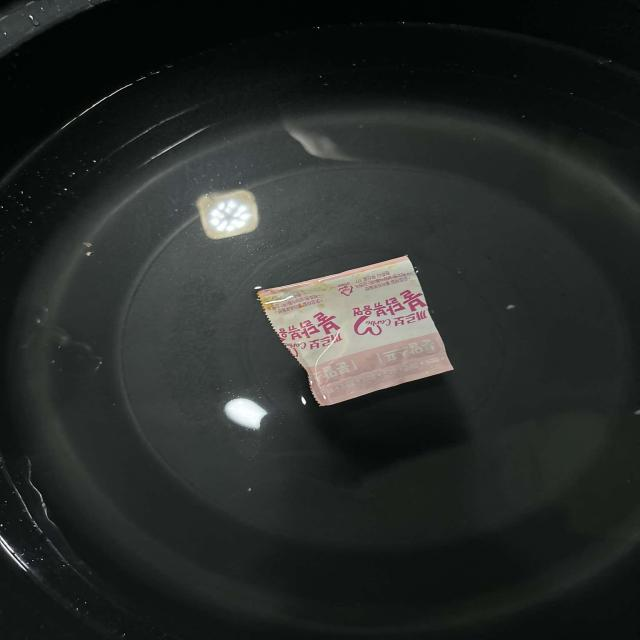Plastic Wrapper: (258, 256, 452, 406)
